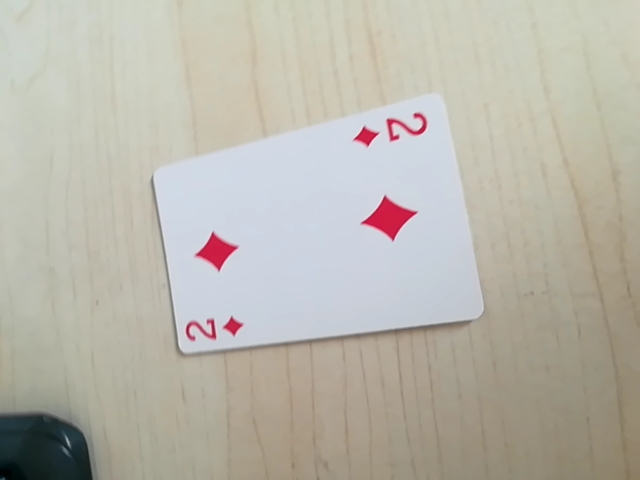fk 2: (350, 106, 435, 156), (180, 308, 249, 353)
